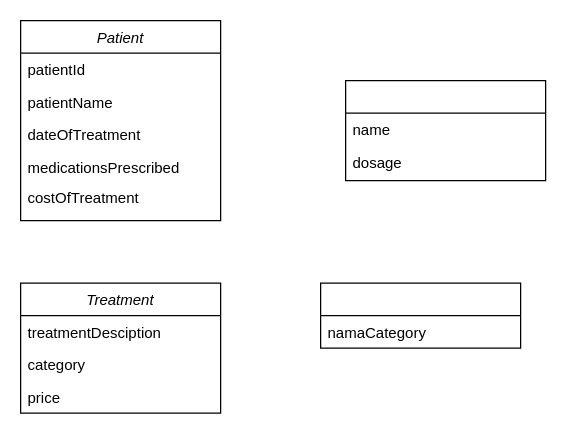
Image size: 566x434. Some labels were removed from this diagram. Here are the shapes that lost their labels. From the top down, the box of each, then its label:
(344, 79, 546, 181): Medication
(319, 282, 521, 348): Categories
